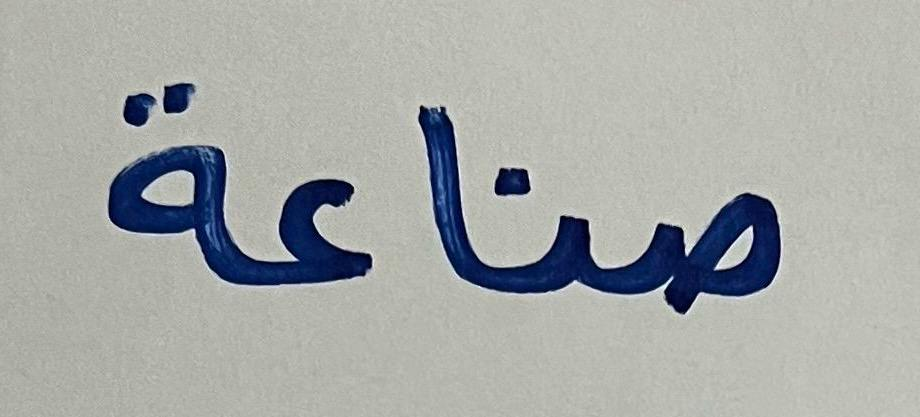ain: (251, 116, 383, 342)
alef: (392, 52, 477, 316)
noon: (483, 135, 601, 345)
sad: (612, 118, 807, 362)
teh_marbota: (62, 33, 246, 339)
